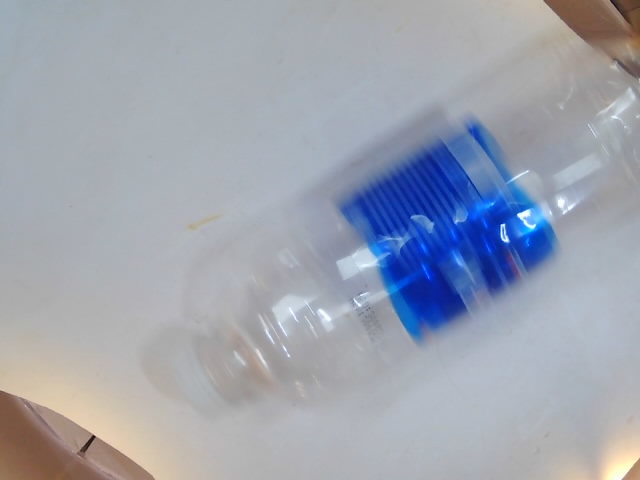plastic: (157, 38, 639, 409)
